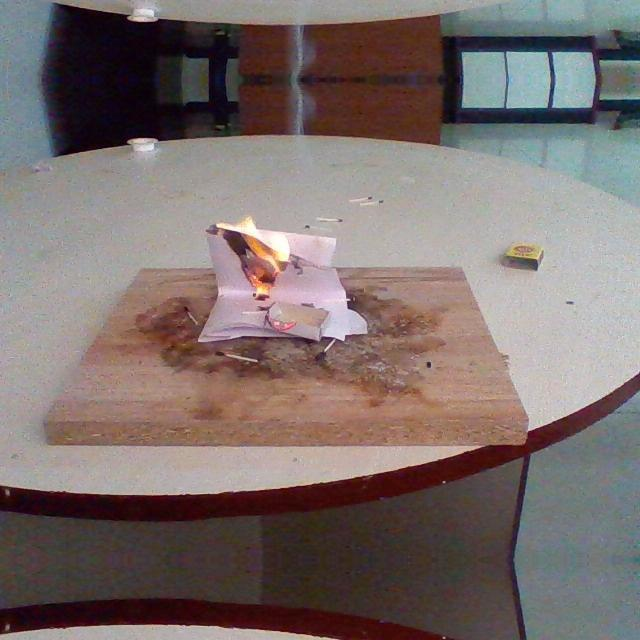smoke: (214, 213, 292, 265)
